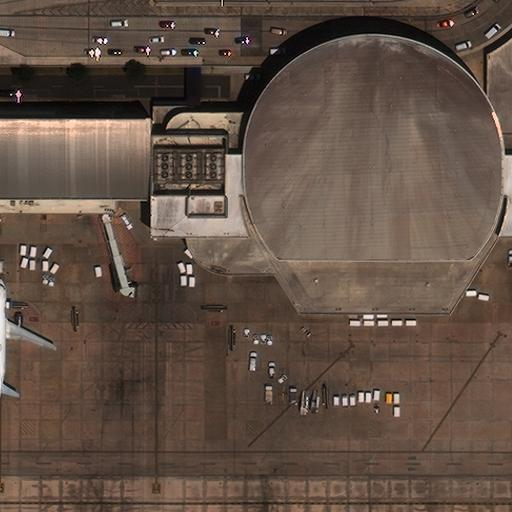Medium Civil Transport: (0, 279, 55, 396)
